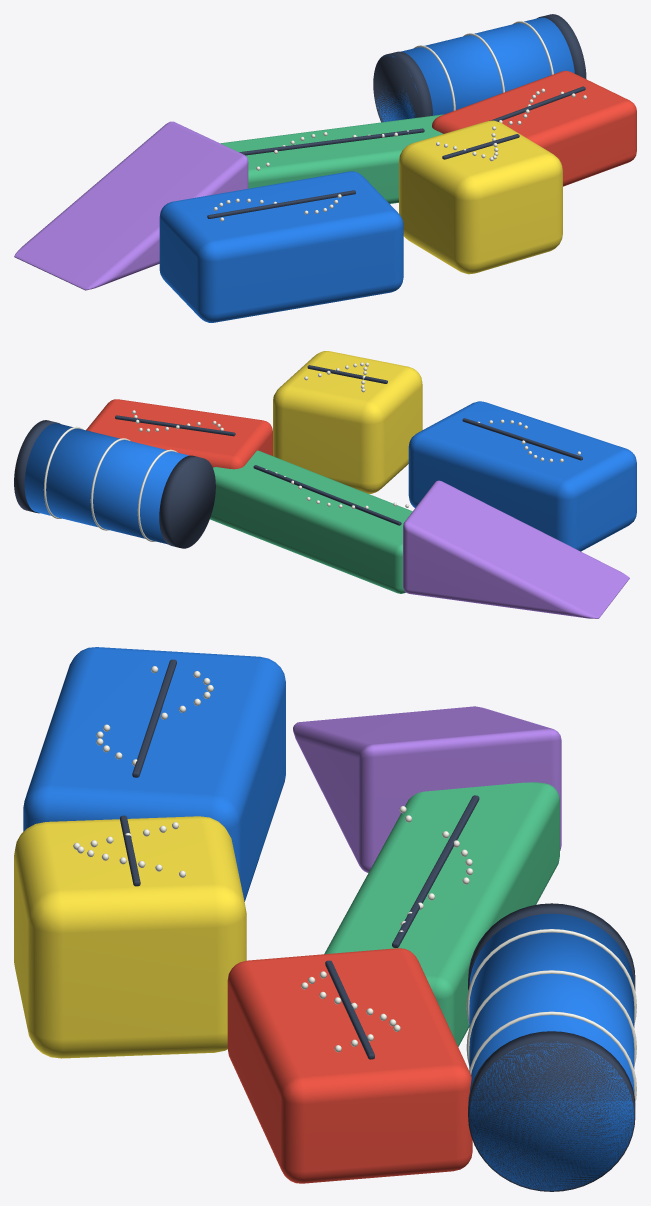
The model's file is Kleine_Schaumstoffbloecke_3D.glb.
3 views of the same model, one above another, from view 1: azimuth 30°, elevation 25°; view 2: azimuth 150°, elevation 25°; view 3: azimuth 270°, elevation 25° (orthographic). The views are drawn at different scales.
Visible parts, largest first — view 1: blue rectangular foam brick, yellow small foam cube, purple triangular ramp shaped small foam block, red low foam cuboid, small round blue foam roller block, green narrow foam bar, dark seam at foam roller left cap, green narrow foam bar dark stitched top seam, dark seam at foam roller right cap, blue rectangular foam brick dark stitched top seam, red low foam cuboid dark stitched top seam; view 2: blue rectangular foam brick, purple triangular ramp shaped small foam block, yellow small foam cube, green narrow foam bar, small round blue foam roller block, red low foam cuboid, dark seam at foam roller left cap, dark seam at foam roller right cap, green narrow foam bar dark stitched top seam, blue rectangular foam brick dark stitched top seam, red low foam cuboid dark stitched top seam; view 3: yellow small foam cube, red low foam cuboid, blue rectangular foam brick, small round blue foam roller block, green narrow foam bar, purple triangular ramp shaped small foam block, dark seam at foam roller right cap, dark seam at foam roller left cap, green narrow foam bar dark stitched top seam, subtle raised ring on foam roller 0.00, subtle raised ring on foam roller -0.16, blue rectangular foam brick dark stitched top seam (+2 smaller).
Part boxes in pixels (bbox=[...]): blue rectangular foam brick: bbox=[159, 171, 403, 322]; yellow small foam cube: bbox=[399, 120, 562, 274]; purple triangular ramp shaped small foam block: bbox=[14, 121, 248, 290]; red low foam cuboid: bbox=[432, 70, 636, 186]; small round blue foam roller block: bbox=[375, 17, 574, 122]; green narrow foam bar: bbox=[220, 114, 443, 203]; dark seam at foam roller left cap: bbox=[373, 51, 432, 122]; green narrow foam bar dark stitched top seam: bbox=[239, 128, 424, 155]; dark seam at foam roller right cap: bbox=[537, 14, 586, 79]; blue rectangular foam brick dark stitched top seam: bbox=[207, 190, 355, 218]; red low foam cuboid dark stitched top seam: bbox=[489, 86, 585, 121]; blue rectangular foam brick: bbox=[408, 401, 636, 551]; purple triangular ramp shaped small foam block: bbox=[403, 480, 629, 618]; yellow small foam cube: bbox=[273, 351, 422, 493]; green narrow foam bar: bbox=[210, 450, 412, 593]; small round blue foam roller block: bbox=[24, 423, 188, 544]; red low foam cuboid: bbox=[86, 399, 272, 469]; dark seam at foam roller left cap: bbox=[159, 455, 215, 548]; dark seam at foam roller right cap: bbox=[14, 420, 60, 513]; green narrow foam bar dark stitched top seam: bbox=[253, 465, 401, 525]; blue rectangular foam brick dark stitched top seam: bbox=[462, 418, 582, 460]; red low foam cuboid dark stitched top seam: bbox=[115, 415, 235, 436]; yellow small foam cube: bbox=[14, 816, 246, 1058]; red low foam cuboid: bbox=[227, 948, 472, 1183]; blue rectangular foam brick: bbox=[23, 647, 285, 901]; small round blue foam roller block: bbox=[469, 913, 634, 1190]; green narrow foam bar: bbox=[324, 782, 559, 1046]; purple triangular ramp shaped small foam block: bbox=[293, 706, 561, 872]; dark seam at foam roller right cap: bbox=[468, 1031, 635, 1191]; dark seam at foam roller left cap: bbox=[468, 903, 635, 990]; green narrow foam bar dark stitched top seam: bbox=[392, 795, 479, 947]; subtle raised ring on foam roller 0.00: bbox=[466, 970, 636, 1065]; subtle raised ring on foam roller -0.16: bbox=[466, 929, 636, 1024]; blue rectangular foam brick dark stitched top seam: bbox=[132, 659, 176, 777].
Bounding box in the file's own units: 1.84 × 0.3175 × 1.02.
